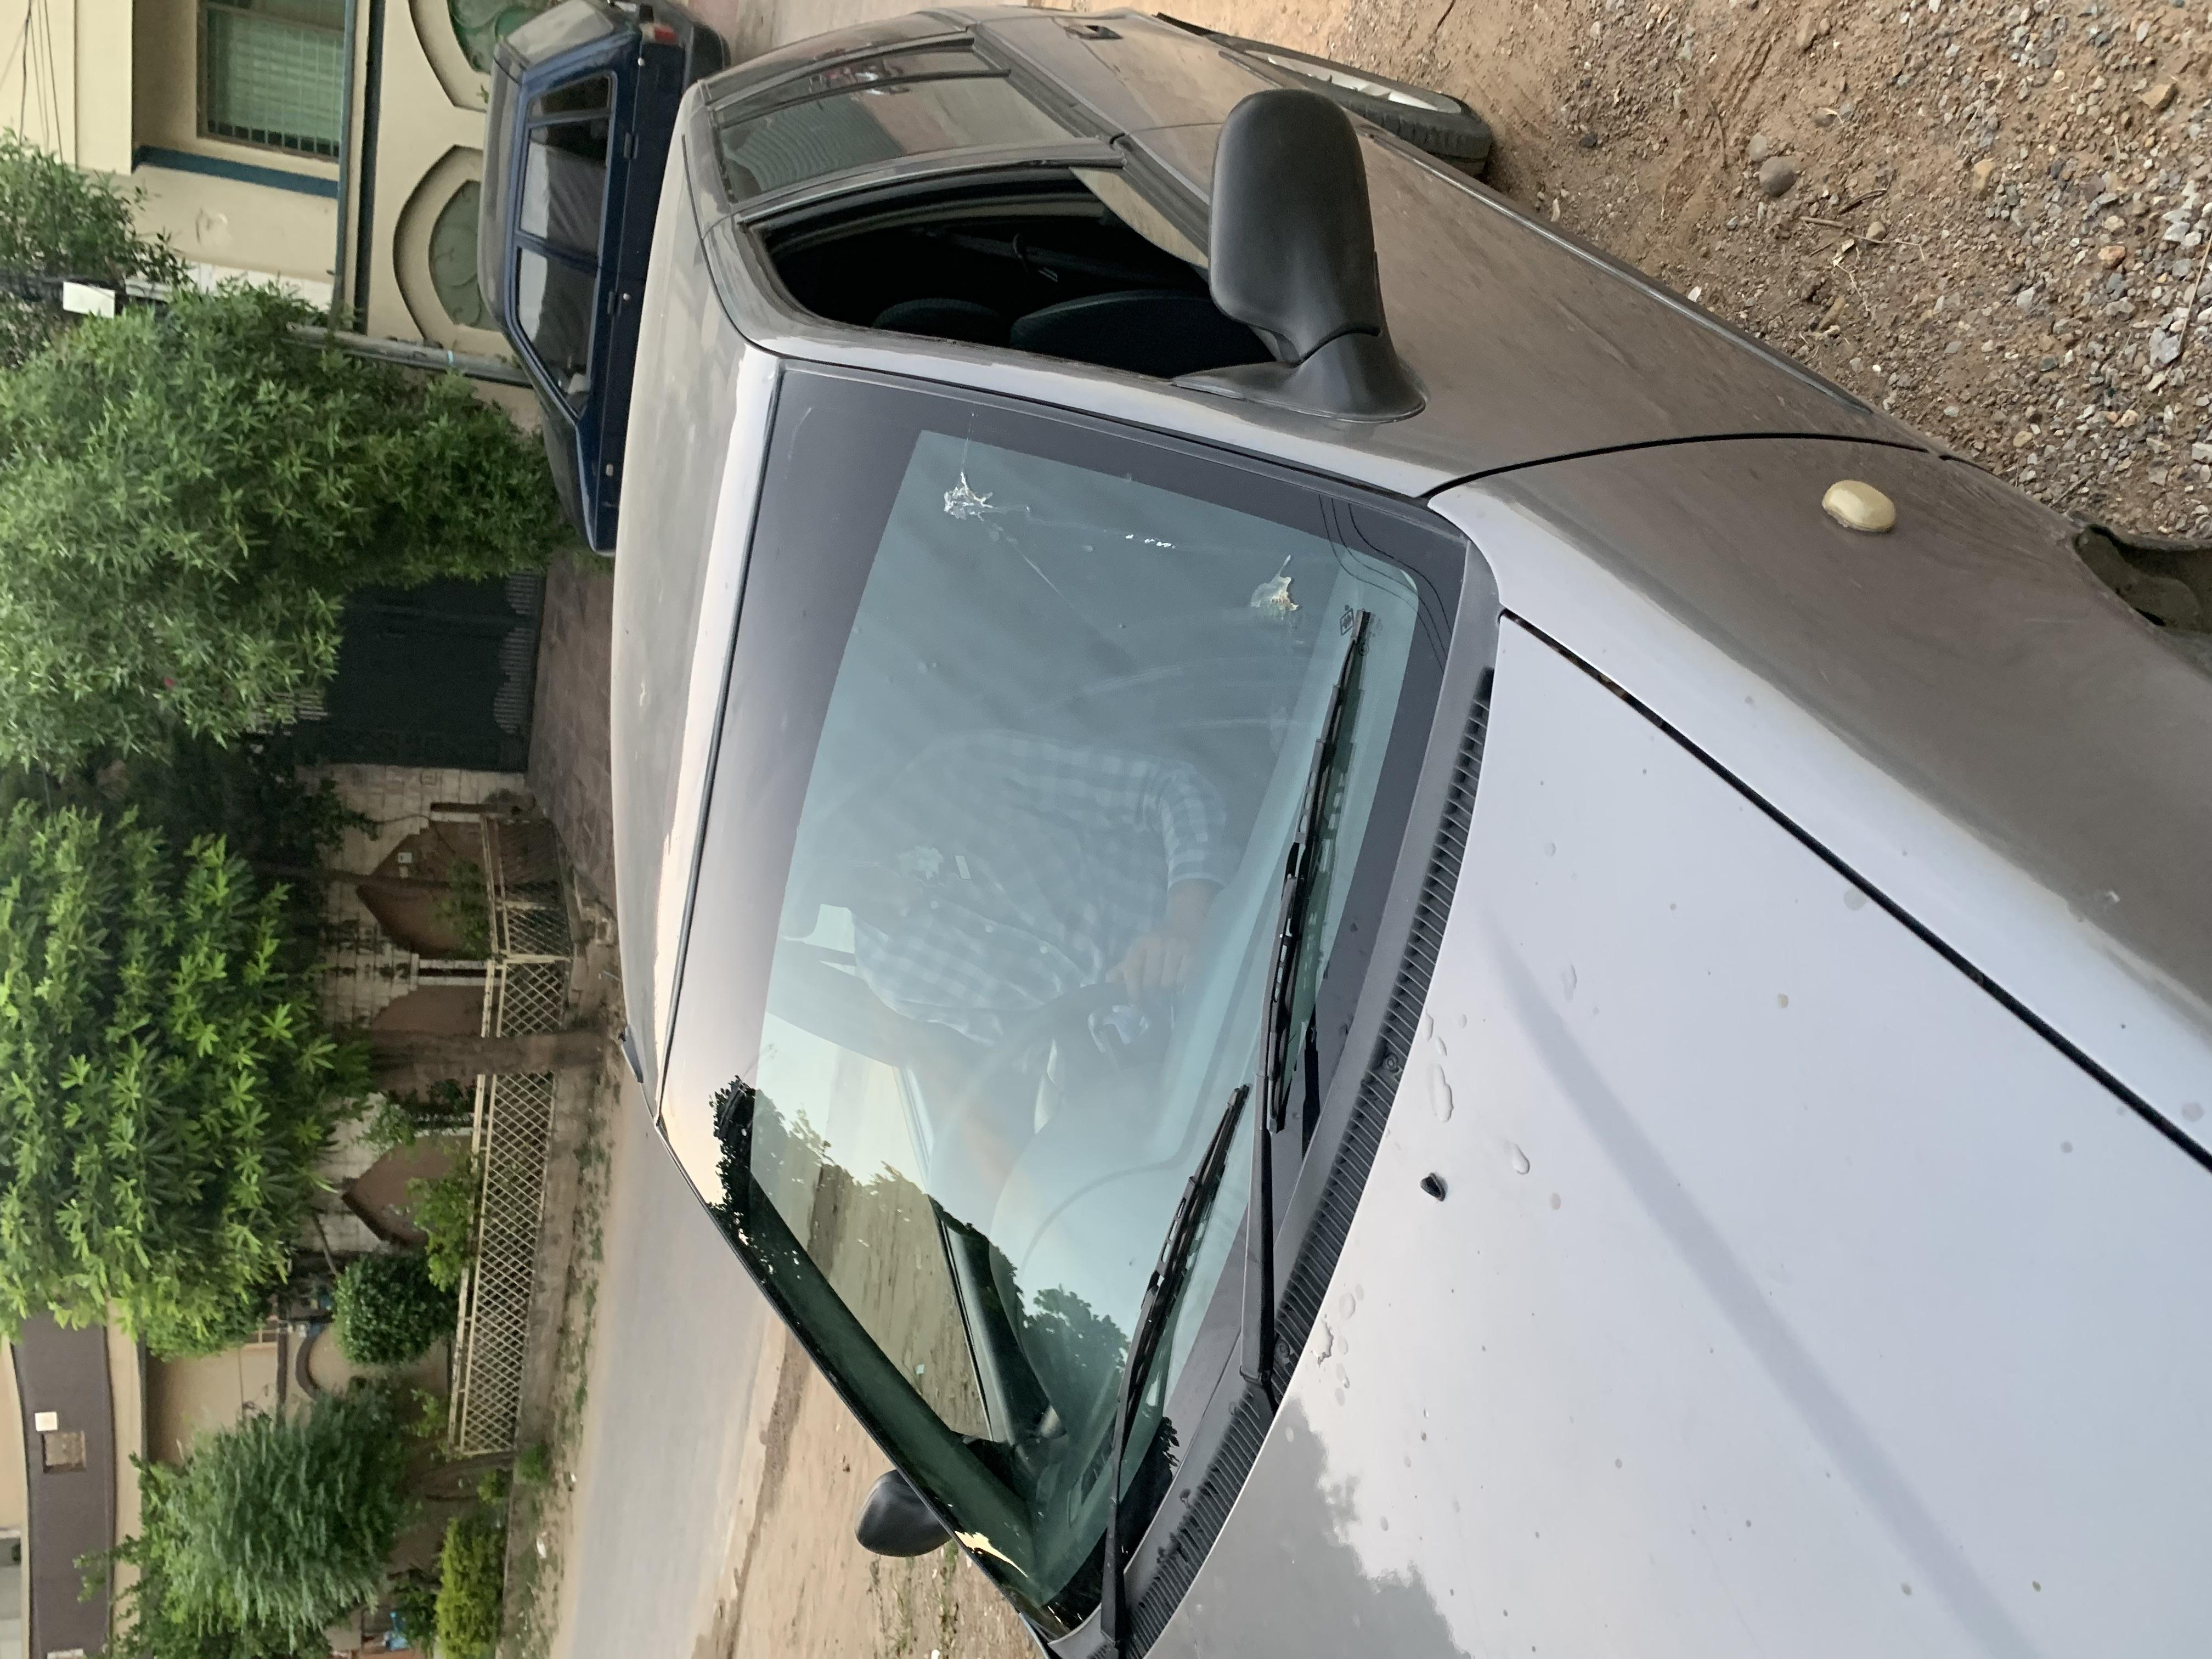windshield: (0, 469, 1728, 1148)
